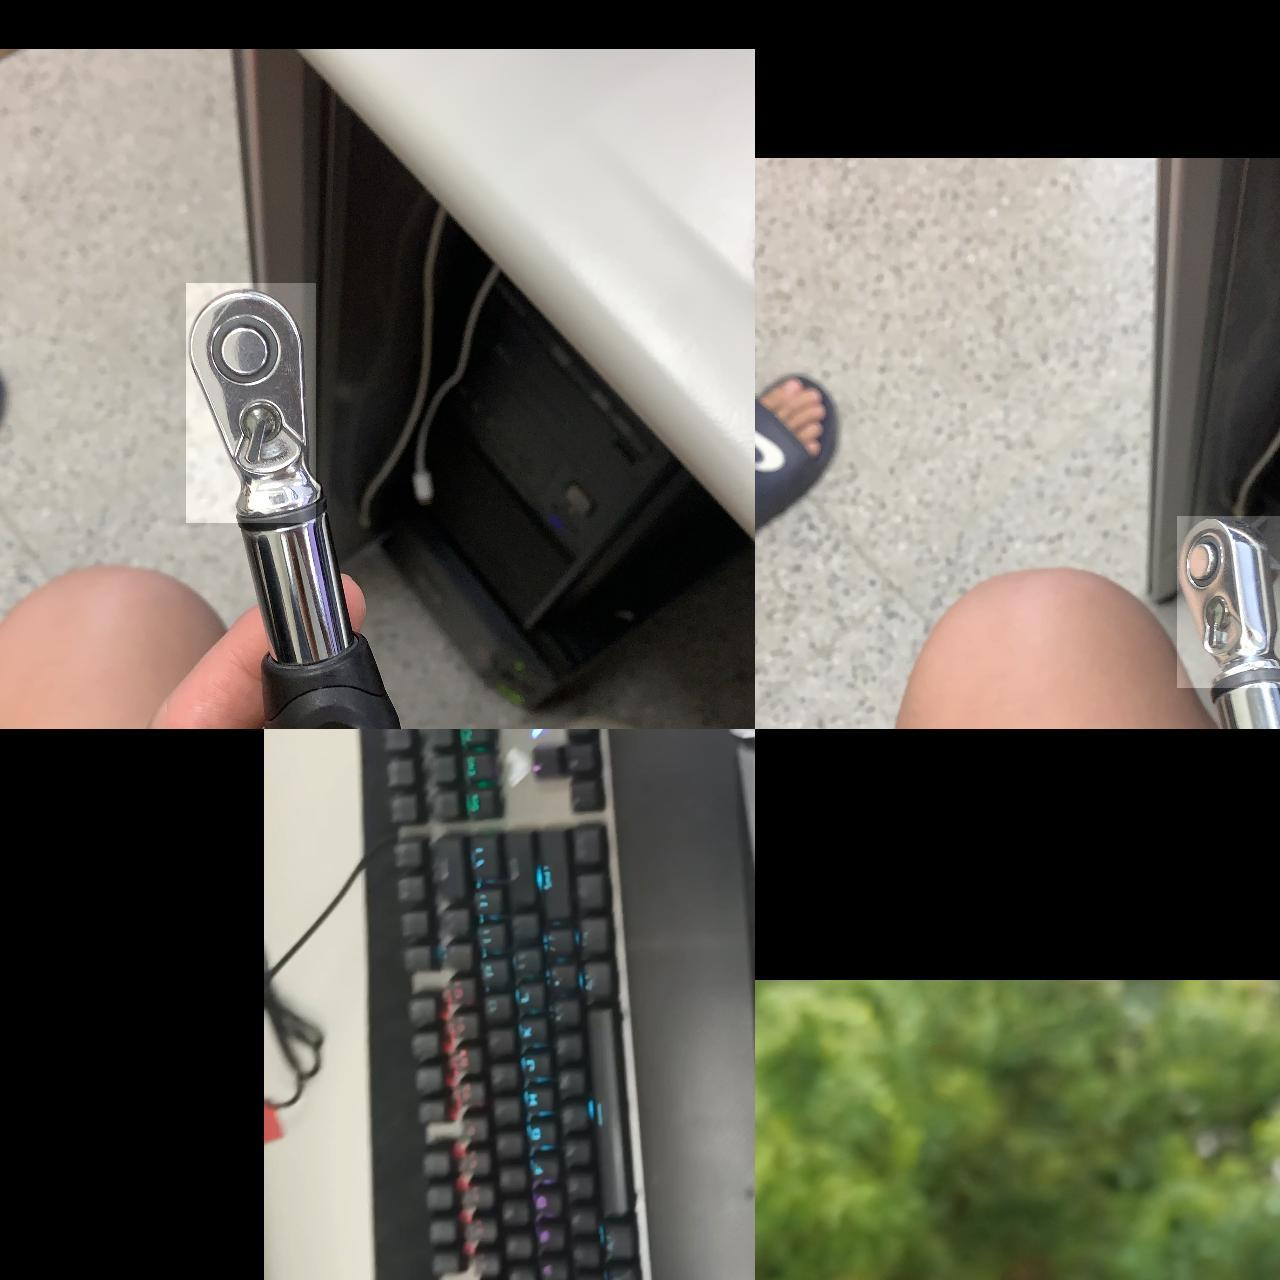Tool: (186, 282, 316, 522), (1177, 515, 1280, 687)
